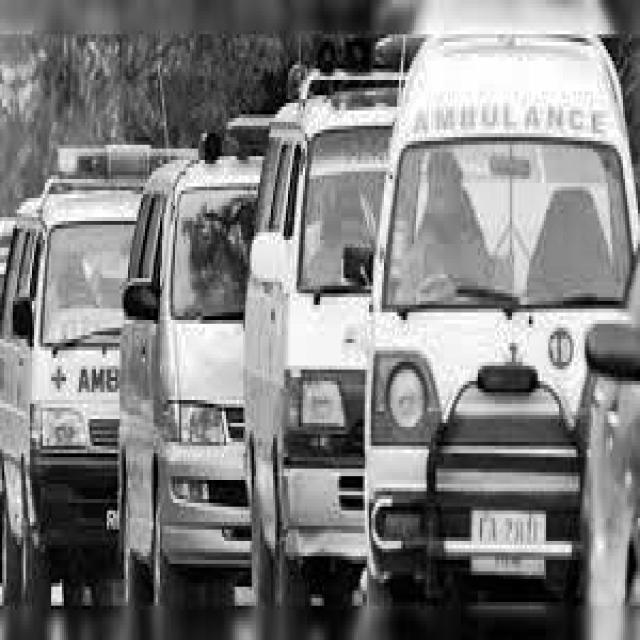Ambulance: (372, 58, 607, 552), (246, 74, 376, 612), (0, 122, 124, 590), (131, 110, 255, 572), (56, 116, 191, 189)
